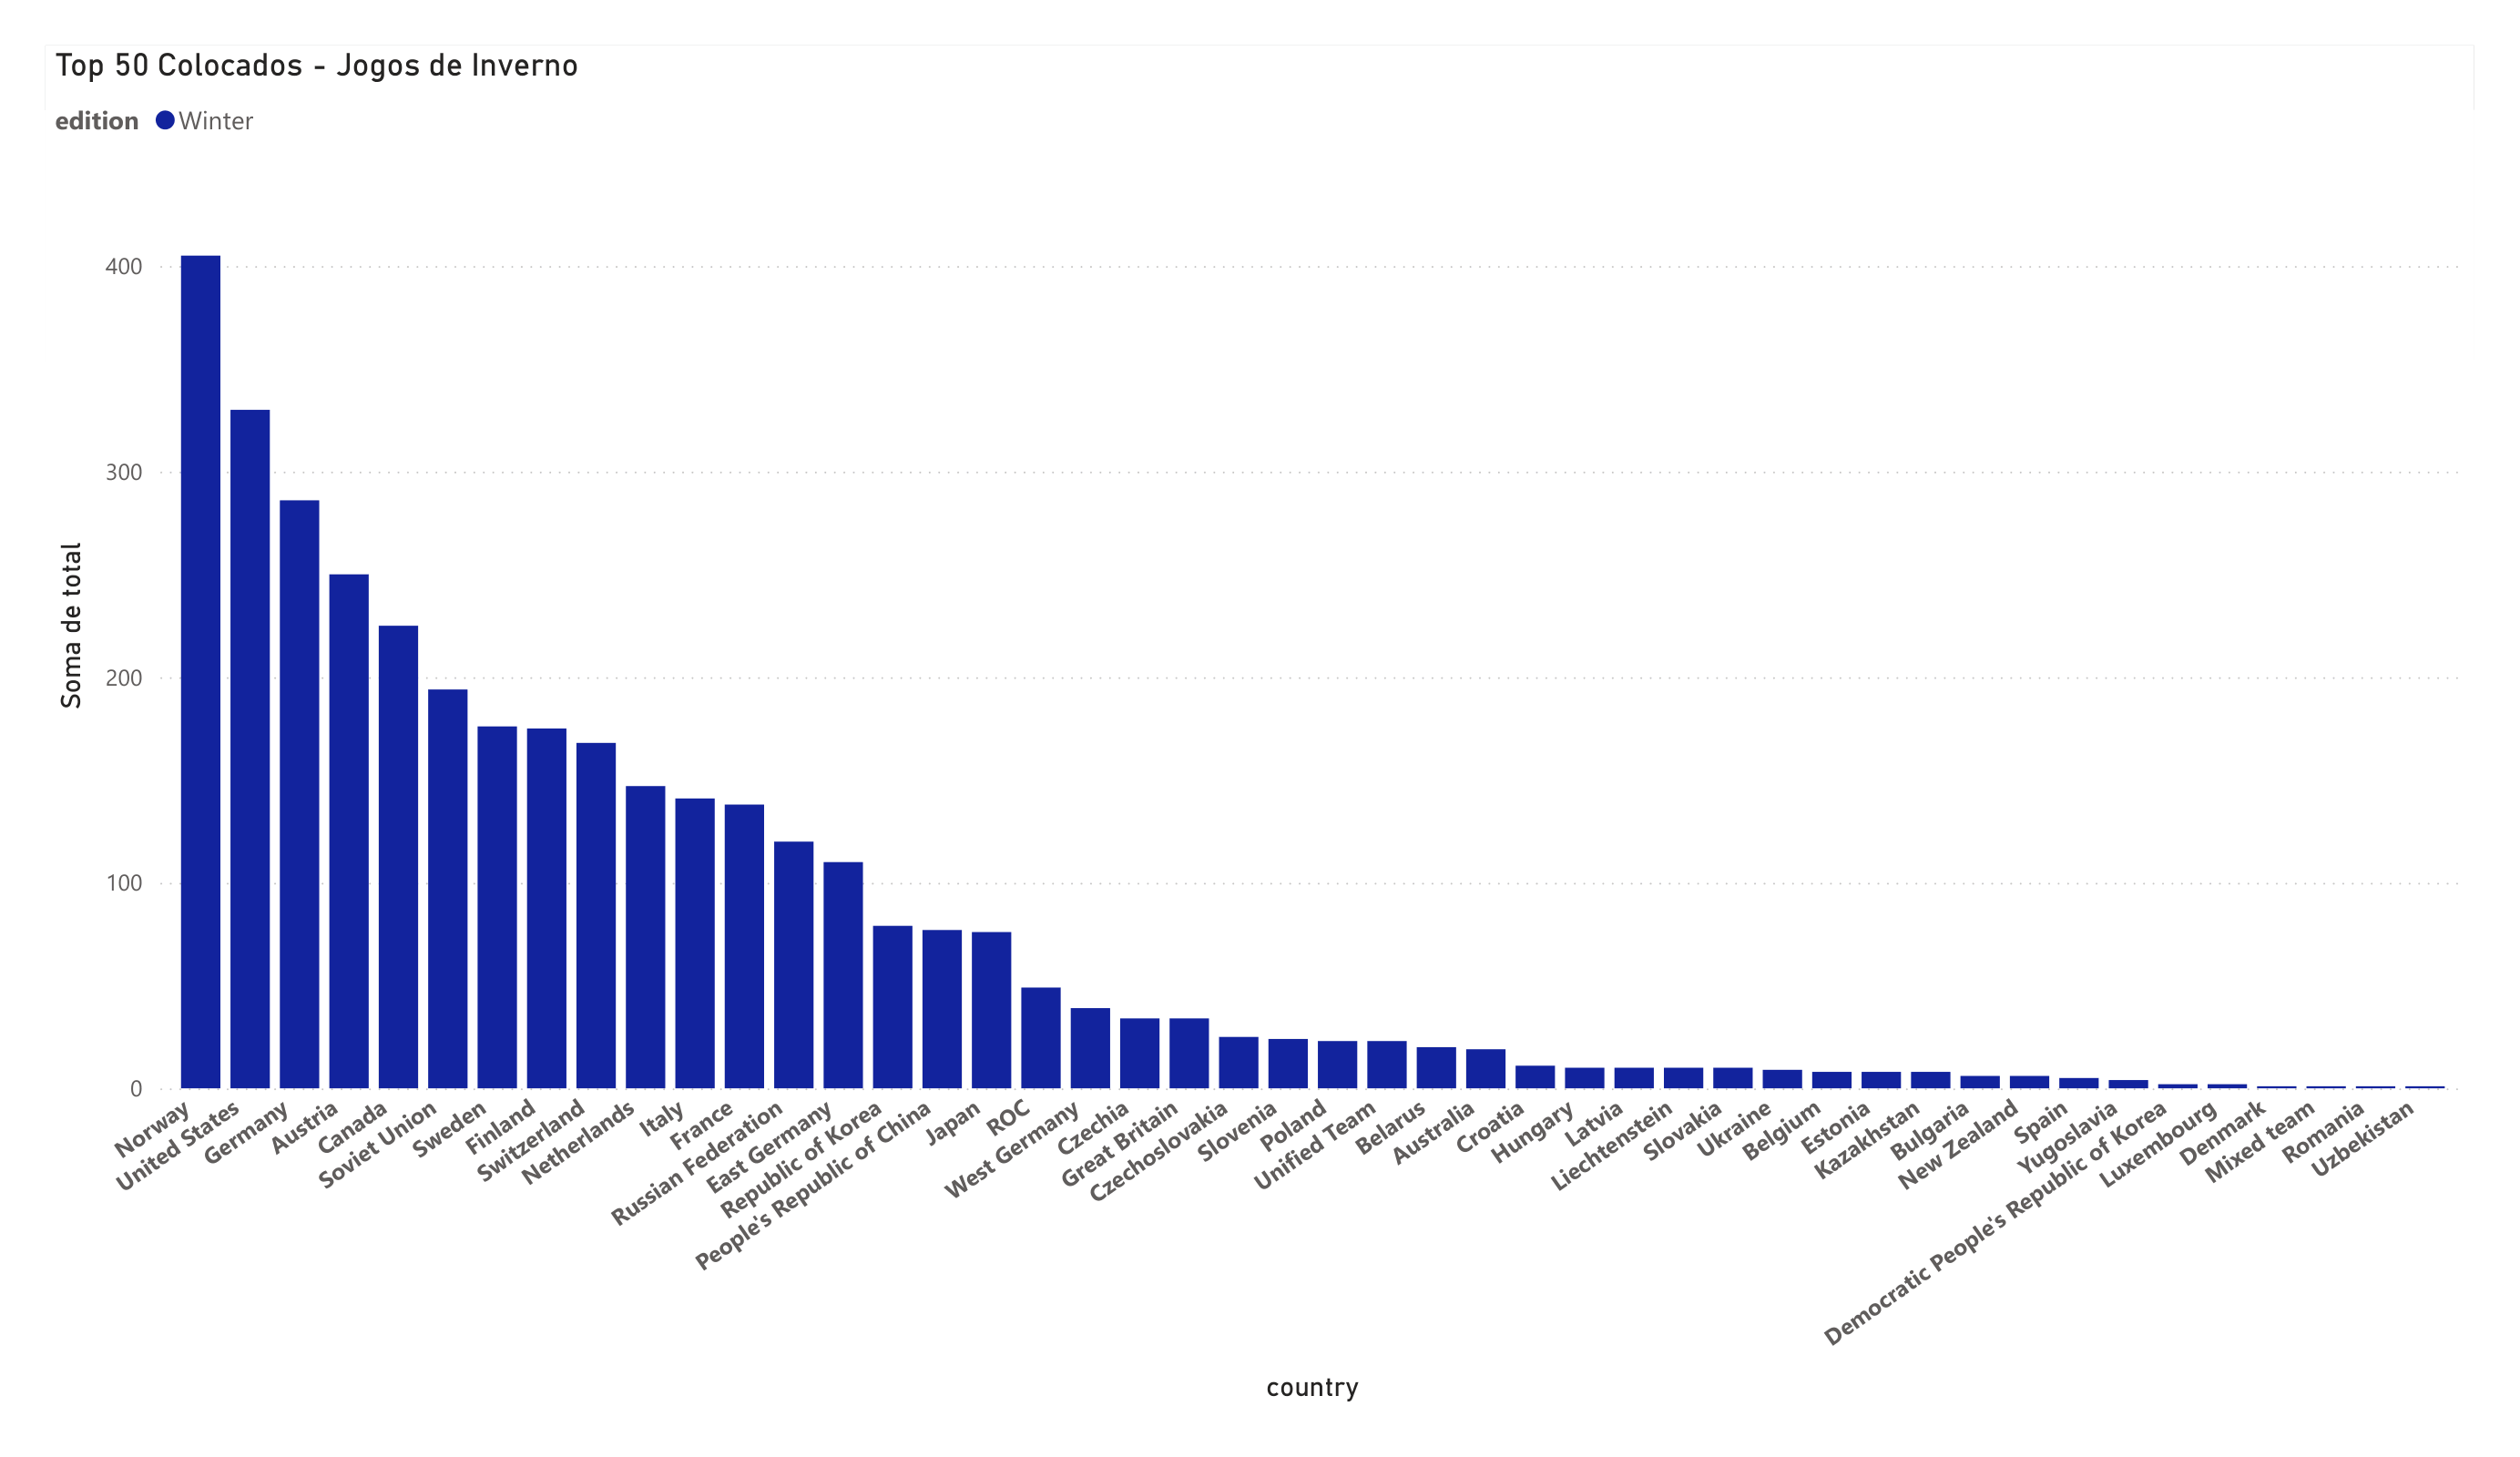

The page's visual inventory and layout, read from the dashboard file:
{"tool":"powerbi","page":{"name":"Página 3","canvas":[1280,720],"ordinal":2},"visuals":[{"type":"columnChart","title":"Top 50 Colocados - Jogos de Inverno","fields":{"Category":["master_table.country"],"Series":["master_table.edition"],"Y":["Sum(master_table.total)"]},"box":[0,0,1280,720],"z":0}]}

Visuals, with their boxes on the page's 1280x720 design canvas (x1, y1, x2, y2). These are canvas units, not pixel positions in the 2520x1457 screenshot, which may show the page scaled, cropped or inside an application window:
"Top 50 Colocados - Jogos de Inverno" columnChart: <bbox>0, 0, 1280, 720</bbox>
